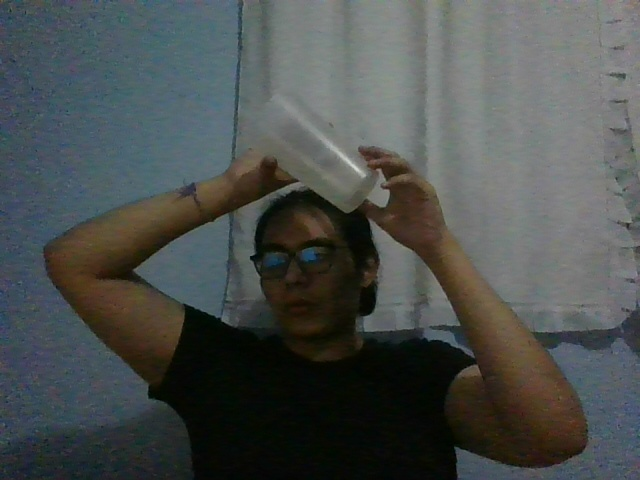vaso: (239, 91, 380, 215)
